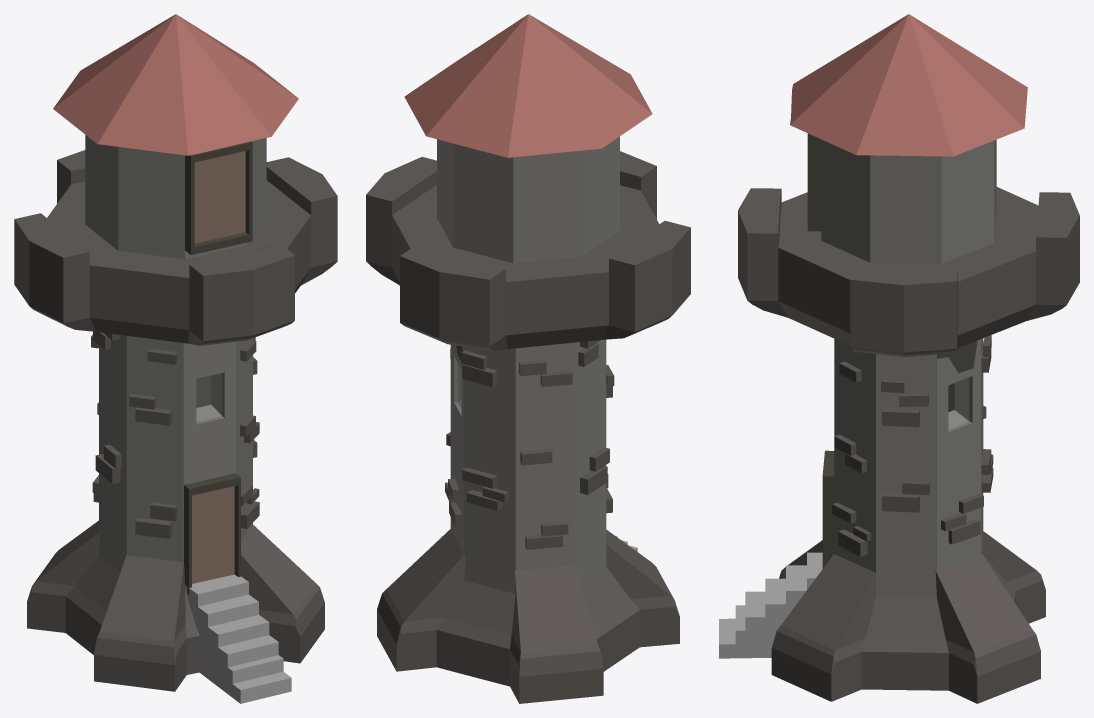
File: lost_tower.glb
3 renders of one model, left to right at view 1: azimuth 30°, elevation 25°; view 2: azimuth 150°, elevation 25°; view 3: azimuth 270°, elevation 25°, orthographic. The views are drawn at different scales.
Visible parts, largest first — view 1: Cylinder, Cube.004; view 2: Cylinder; view 3: Cylinder, Cube.004.
Part boxes in pixels (x1,y1,x2,y2): Cylinder: (14, 14, 337, 691); Cube.004: (185, 574, 291, 703); Cylinder: (366, 14, 690, 703); Cylinder: (738, 14, 1079, 703); Cube.004: (719, 552, 822, 658).
Bounding box in the file's own units: 1.83 × 3.73 × 1.93.
Materials: 2 (1 with a texture image).
